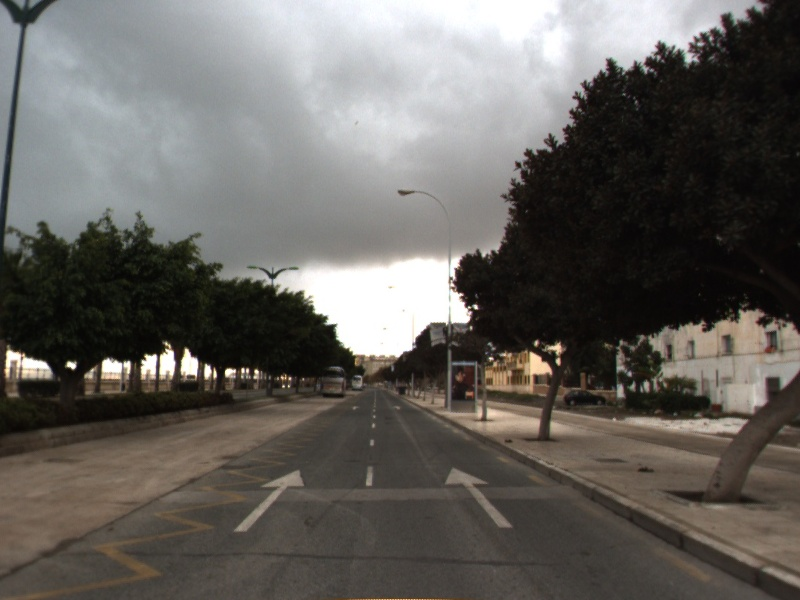STRAIGHT: (232, 467, 307, 534), (442, 464, 516, 530)
